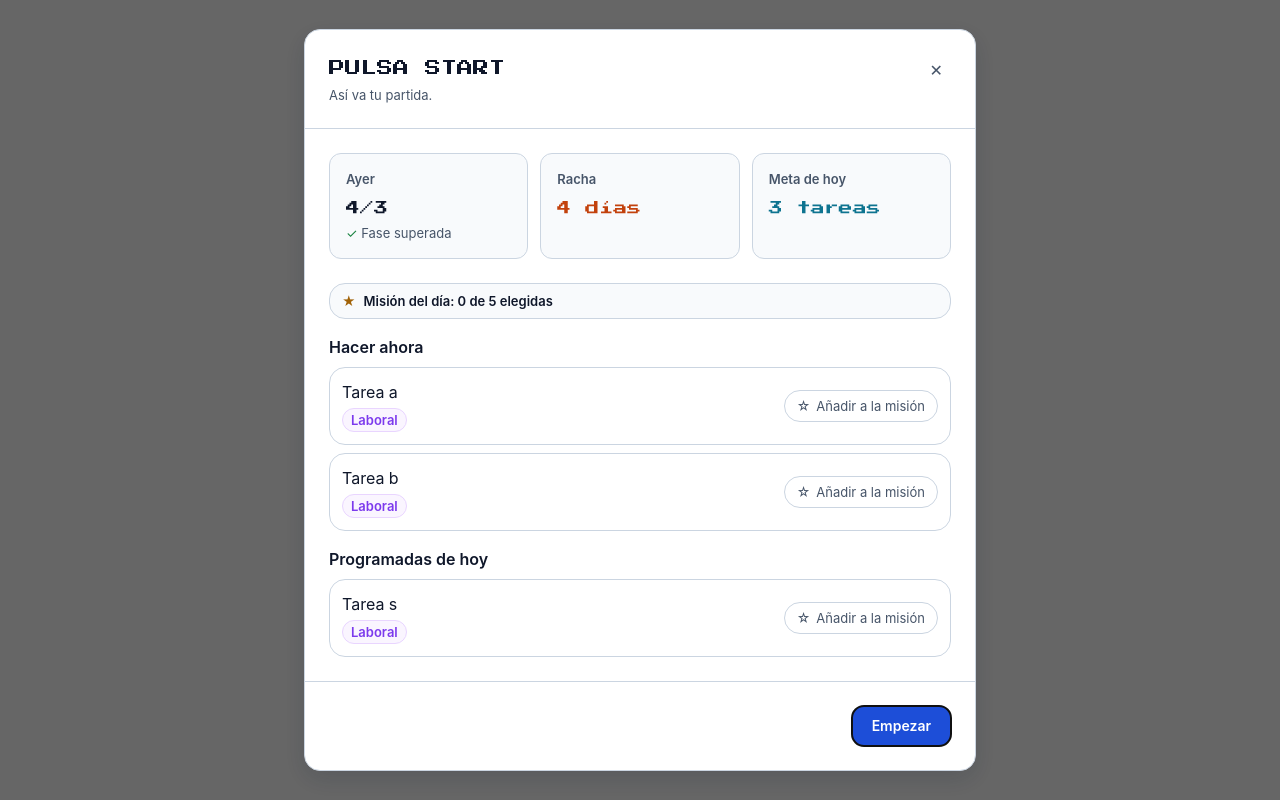
<StartOfDayDialog> › si el servidor rechaza la misión, avisa, conserva la selección y no cierra
The width and height of the screenshot is (1280, 800).
Click the button with aria-label "Añadir a la misión: Tarea a": x=861, y=406 [784,390,938,422]
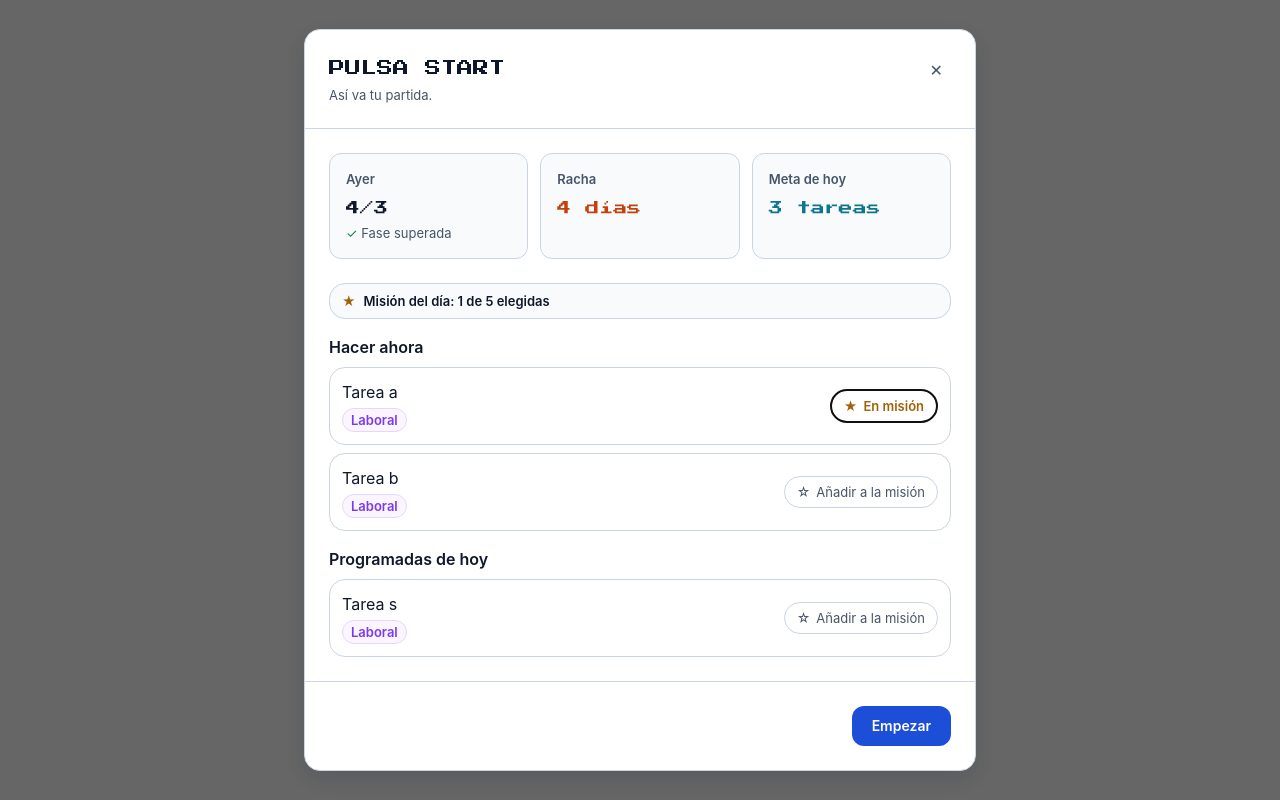
Click the button "Empezar": x=901, y=726 [852,706,951,746]
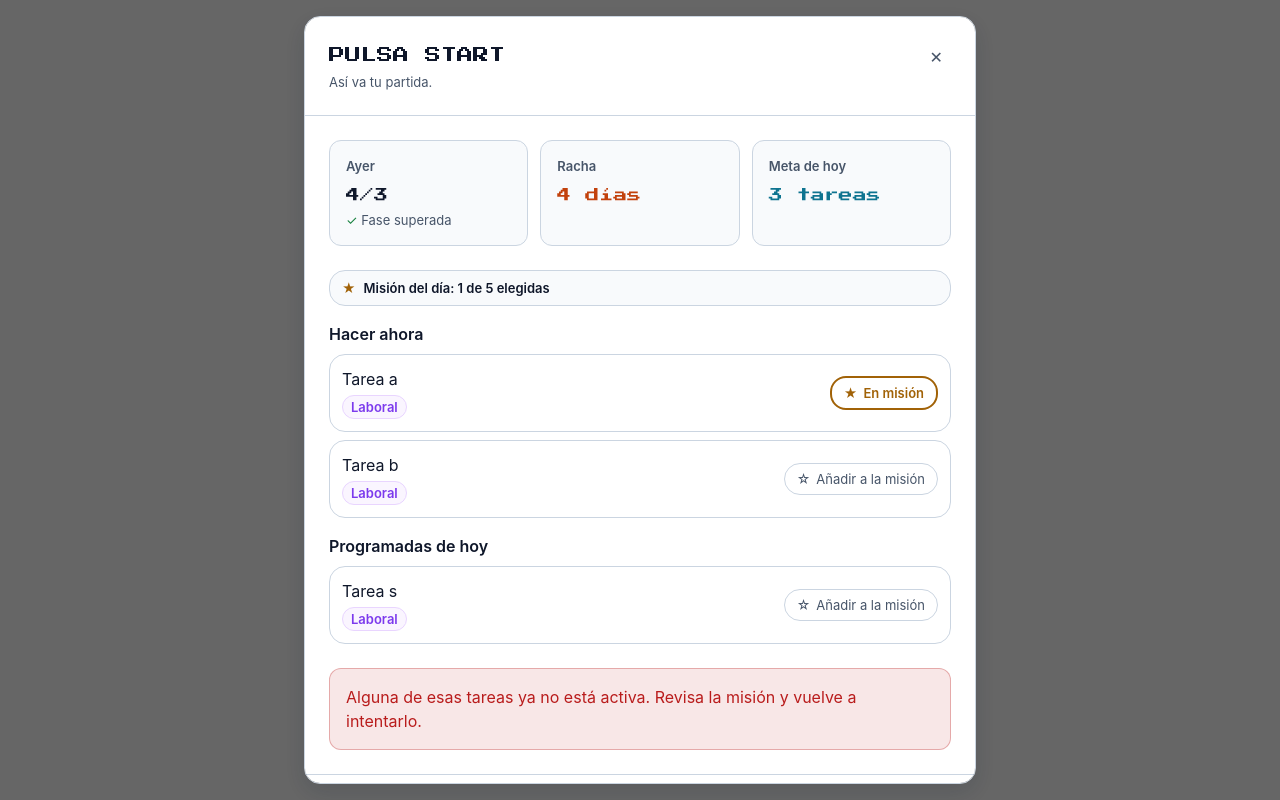
Expected: the dialog "PULSA START" does not show "SECRETO", [304,16,976,784]
Result: the message shows "Alguna de esas tareas ya no está activa." at [346,687,856,731]
